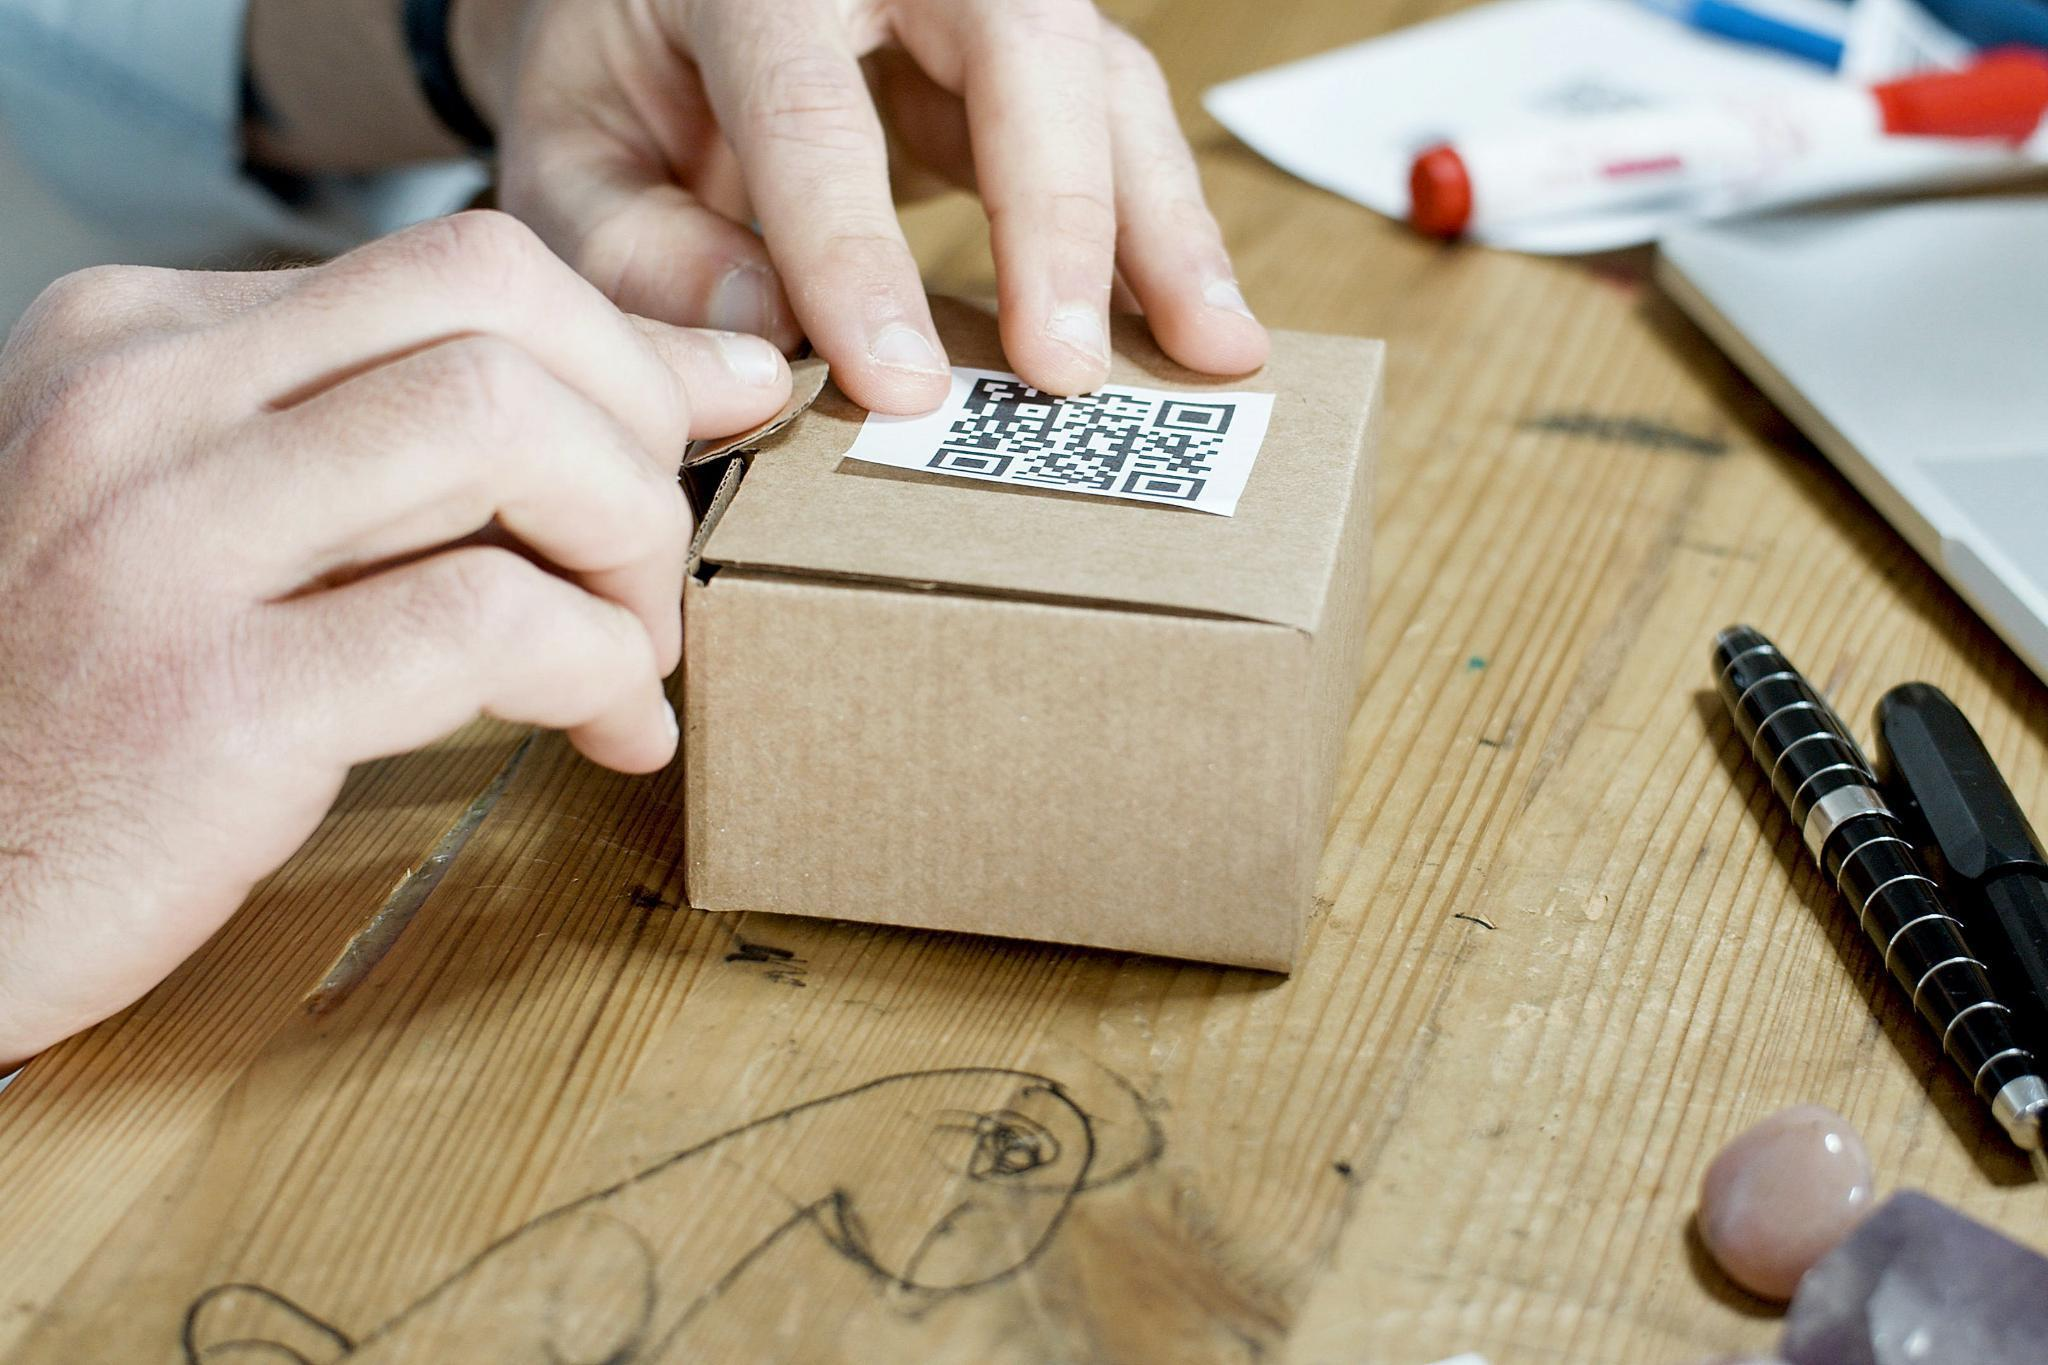qr_code: (926, 376, 1235, 503)
